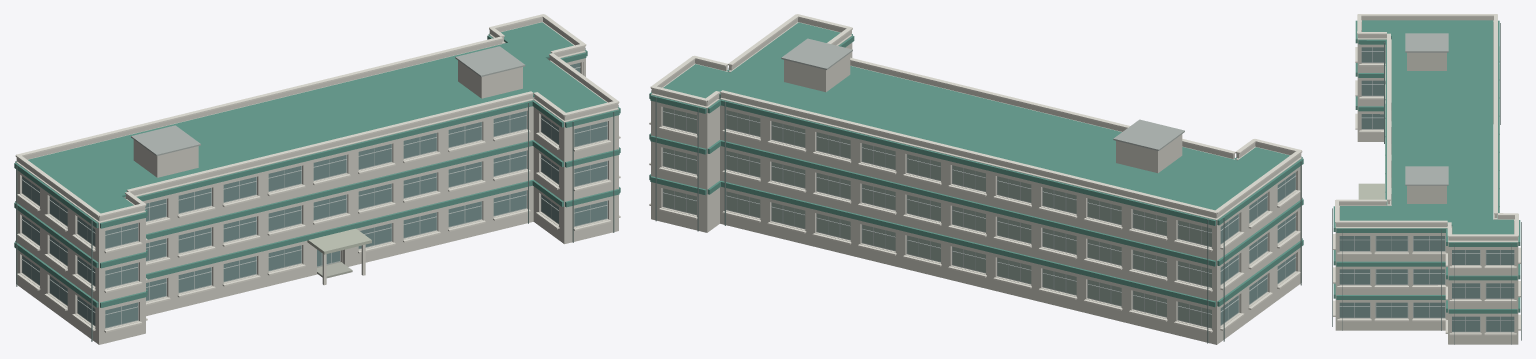
3 renders of one model, left to right at view 1: azimuth 30°, elevation 25°; view 2: azimuth 150°, elevation 25°; view 3: azimuth 270°, elevation 25°, orthographic. The views are drawn at different scales.
Visible parts, largest first — view 1: science__wall, science__roof, science__glass, science__trim, science__frame, science__greyroof, science__metal, science__entry; view 2: science__wall, science__roof, science__sideglass, science__trim, science__frame, science__glass, science__greyroof, science__metal; view 3: science__roof, science__wall, science__glass, science__trim, science__frame, science__greyroof, science__metal, science__entry.
Part boxes in pixels (x1,y1,x2,y2): science__wall: (16,18,618,344); science__roof: (14,22,620,307); science__glass: (22,63,607,327); science__trim: (15,14,620,332); science__frame: (21,66,607,328); science__greyroof: (131,46,525,155); science__metal: (16,48,618,341); science__entry: (307,228,371,254); science__wall: (651,18,1301,344); science__roof: (649,22,1303,307); science__sideglass: (663,107,1211,327); science__trim: (649,14,1302,332); science__frame: (662,107,1296,328); science__glass: (718,96,1295,324); science__greyroof: (781,38,1184,150); science__metal: (651,68,1301,343); science__roof: (1333,20,1520,313); science__wall: (1335,17,1518,344); science__glass: (1339,37,1514,331); science__trim: (1333,14,1520,335); science__frame: (1339,47,1514,332); science__greyroof: (1405,33,1448,185); science__metal: (1332,23,1521,344); science__entry: (1358,183,1384,199).
Size of the model in its own units: 50.5 by 13.08 by 18.
